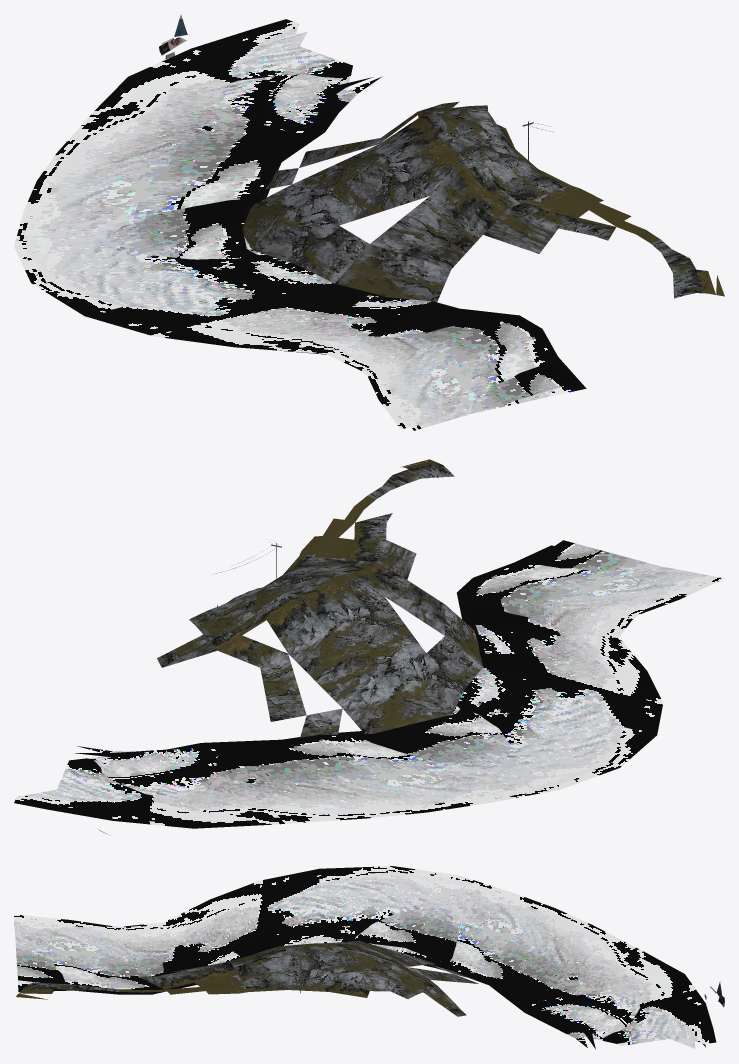
Rendered from world_camden_14_0.gltf.
3 renders of one model, top to bottom at view 1: azimuth 30°, elevation 25°; view 2: azimuth 150°, elevation 25°; view 3: azimuth 270°, elevation 25°, orthographic. The views are drawn at different scales.
Size of the model in its own units: 126 by 33.52 by 208.
Materials: 10 (10 with a texture image).
